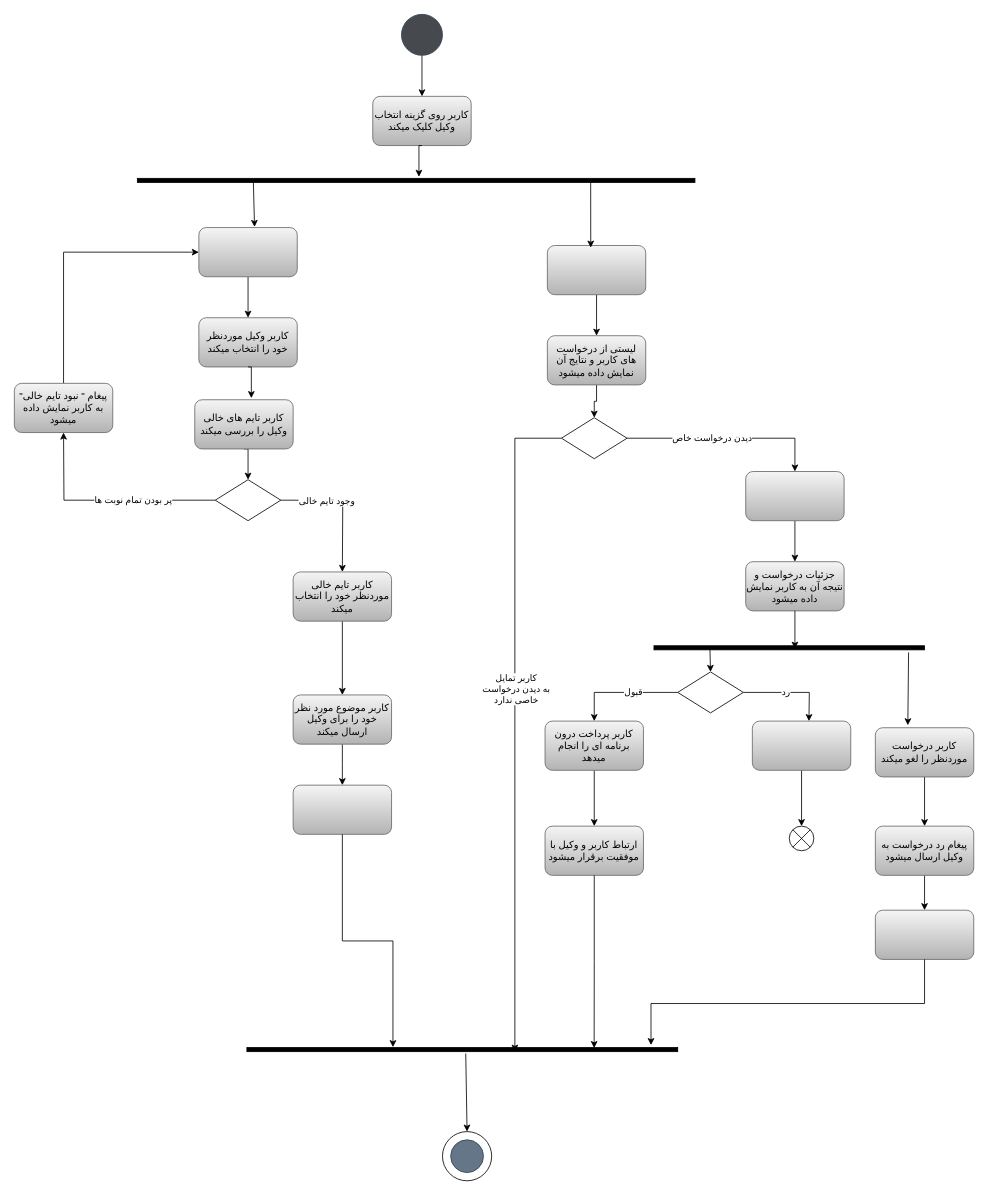
This 988x1196 diagram has some shape labels left out. The box of each missing label's shape, as (x1, y1, x2, y2) in pixels:
ارسال با موفقیت انجام میشود: (292, 784, 392, 834)
تایم نوبت لغو شده در برنامه وکیل آزاد میشود: (875, 909, 974, 959)
در نتایج درخواست کاربر پیغام "رد درخواست" نمایش داده میشود: (752, 720, 851, 770)
لیستی از وکیل ها نمایش داده میشود: (198, 227, 297, 277)
کاربر روی درخواست موردنظر خود کلیک میکند: (745, 471, 844, 521)
کاربر گزینه "نمایش درخواست ها" را انتخاب میکند: (547, 245, 646, 295)
